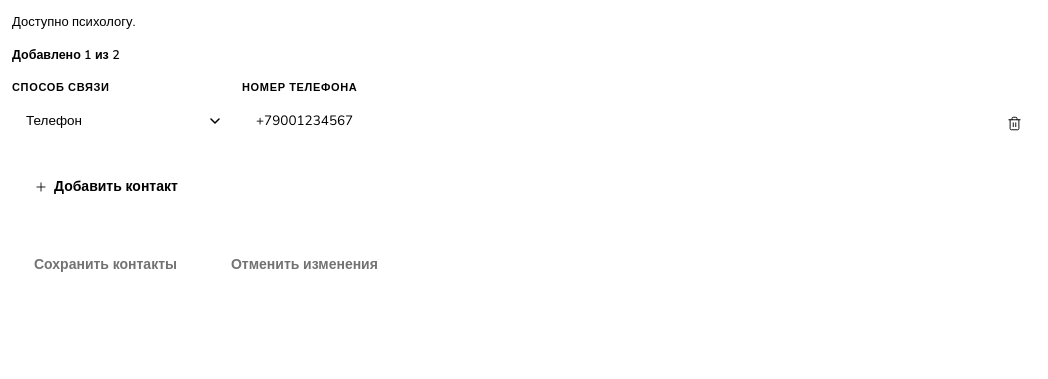
it: ContactsEditor › новому контакту предлагается короткий список (только из каталога)
The width and height of the screenshot is (1048, 379).
Click the button named "Способ связи" at (122, 121), box [12,101,232,141]
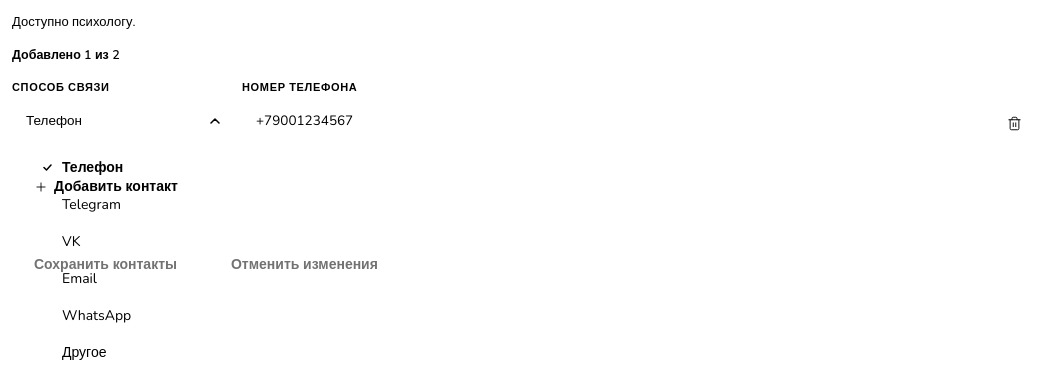
Result: the options read "Телефон", "Telegram", "VK", "Email", "WhatsApp", "Другое", in this order at [42,158,123,177]; [62,195,121,214]; [62,232,80,251]; [62,269,97,288]; [62,306,131,325]; [62,343,106,362]
